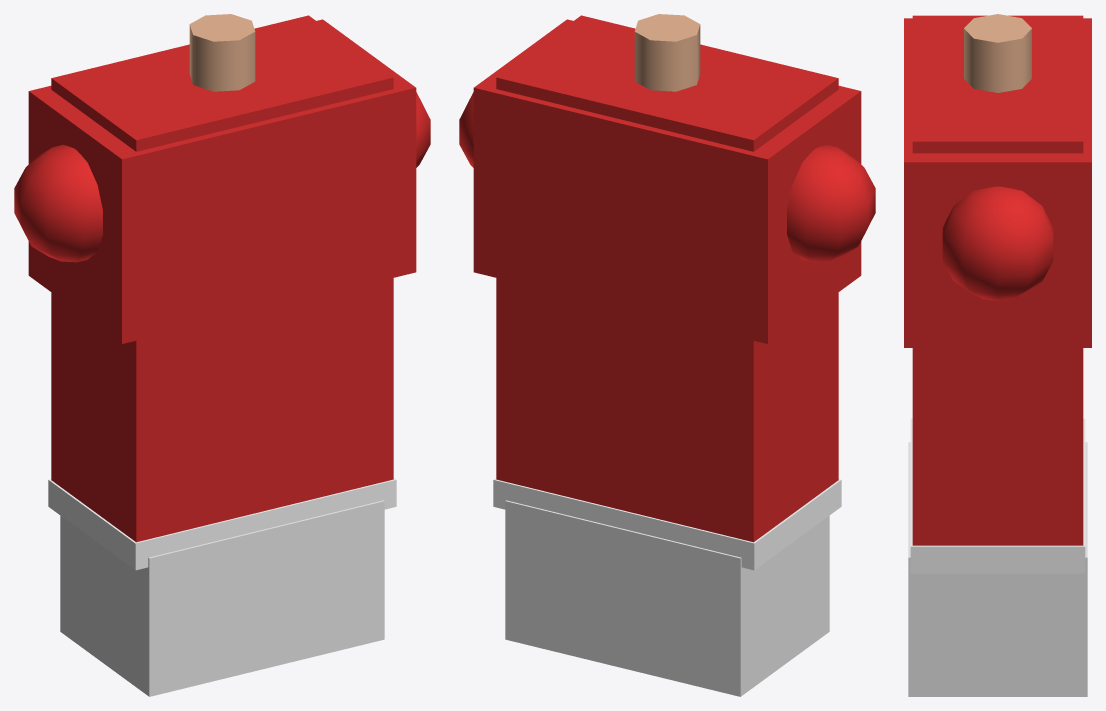
Rendered from Torso.obj.
3 renders of one model, left to right at view 1: azimuth 30°, elevation 25°; view 2: azimuth 150°, elevation 25°; view 3: azimuth 270°, elevation 25°, orthographic.
Visible parts, largest first — view 1: Torso; view 2: Torso; view 3: Torso.
Boxes of the visible parts, bbox=[...] form: Torso: bbox=[14, 14, 430, 696]; Torso: bbox=[459, 14, 875, 696]; Torso: bbox=[904, 14, 1091, 696].
Size of the model in its own units: 0.5465 by 0.79 by 0.22.
1 material, 1 textured.
